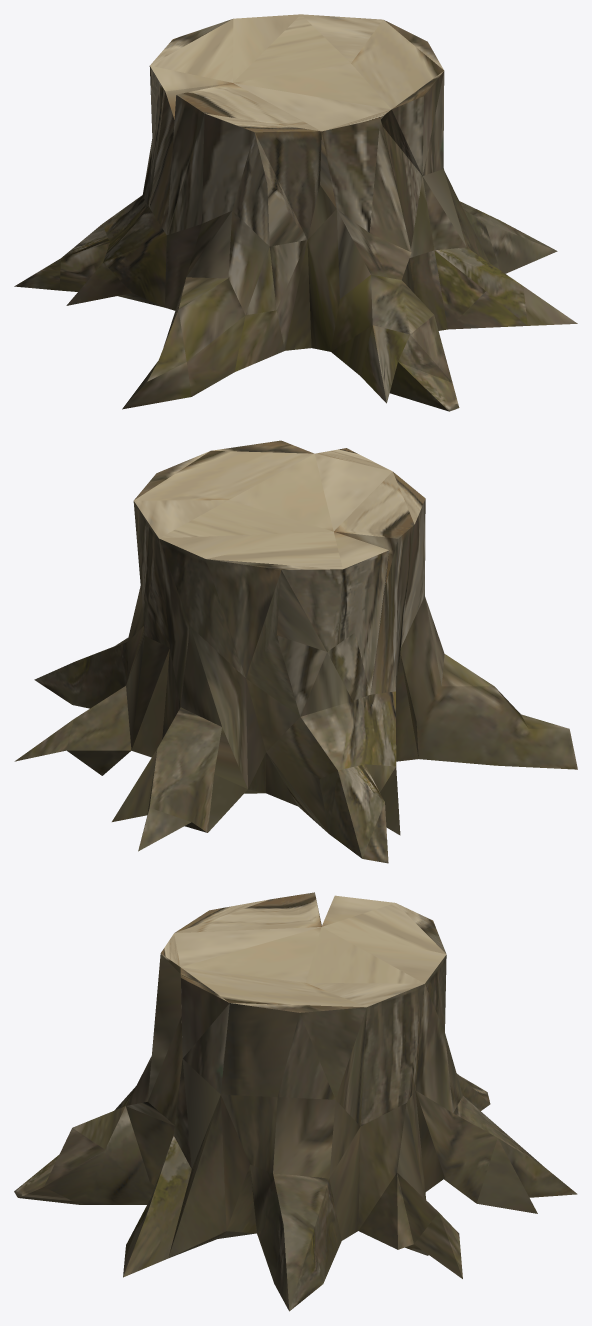
Rendered from stump.glb.
3 renders of one model, top to bottom at view 1: azimuth 30°, elevation 25°; view 2: azimuth 150°, elevation 25°; view 3: azimuth 270°, elevation 25°, orthographic. The views are drawn at different scales.
Parts seen in each view (by area): view 1: oak; view 2: oak; view 3: oak.
Part boxes in pixels (x1,y1,x2,y2): oak: [14, 14, 577, 411]; oak: [14, 440, 577, 863]; oak: [14, 892, 577, 1311].
Size of the model in its own units: 0.978 by 0.485 by 0.9824.
1 material, 1 textured.
